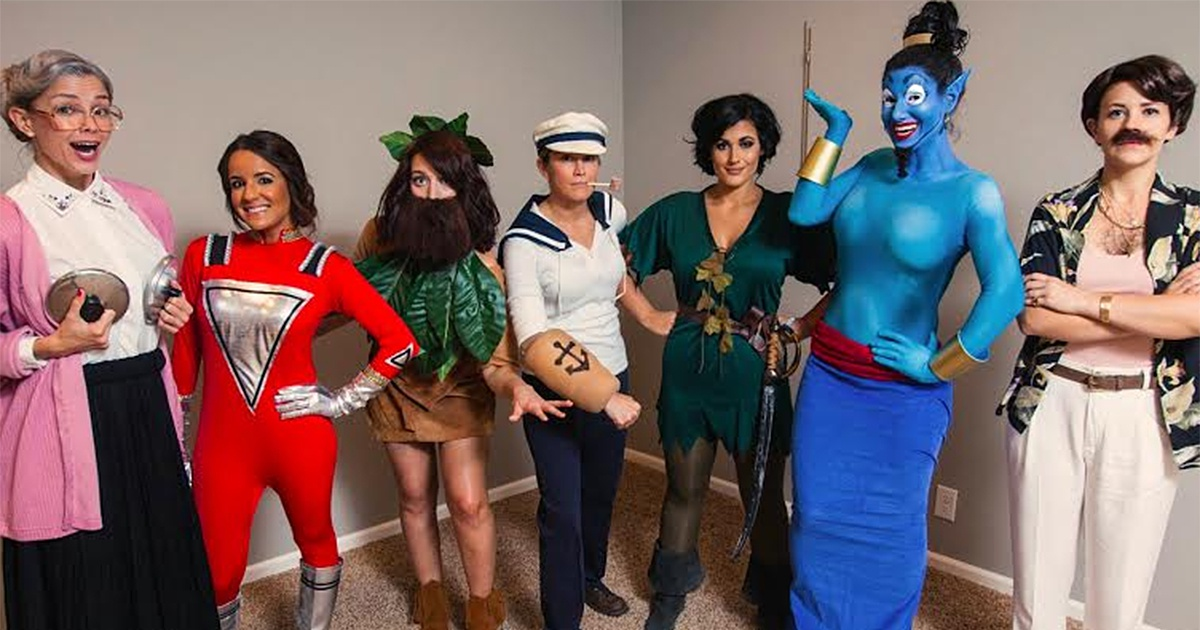bad: (36, 76, 126, 166), (1091, 88, 1166, 163), (212, 155, 287, 229), (867, 72, 942, 146), (711, 130, 763, 182), (550, 147, 602, 199)
